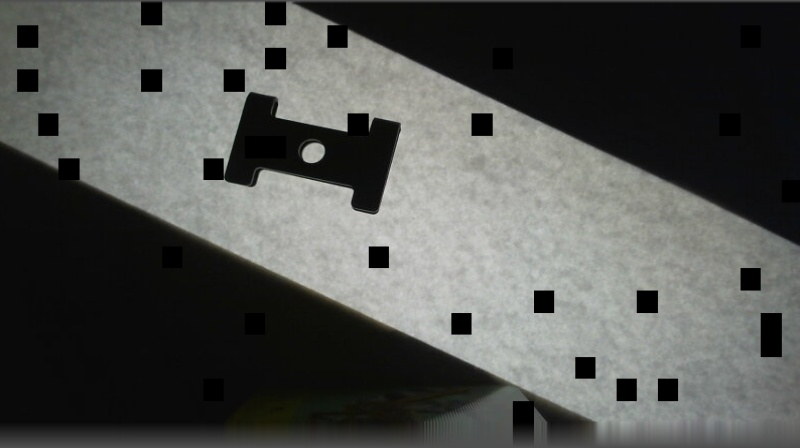O002: (219, 87, 407, 219)
